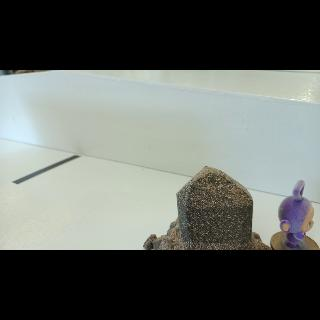teletubby: (278, 180, 314, 248)
